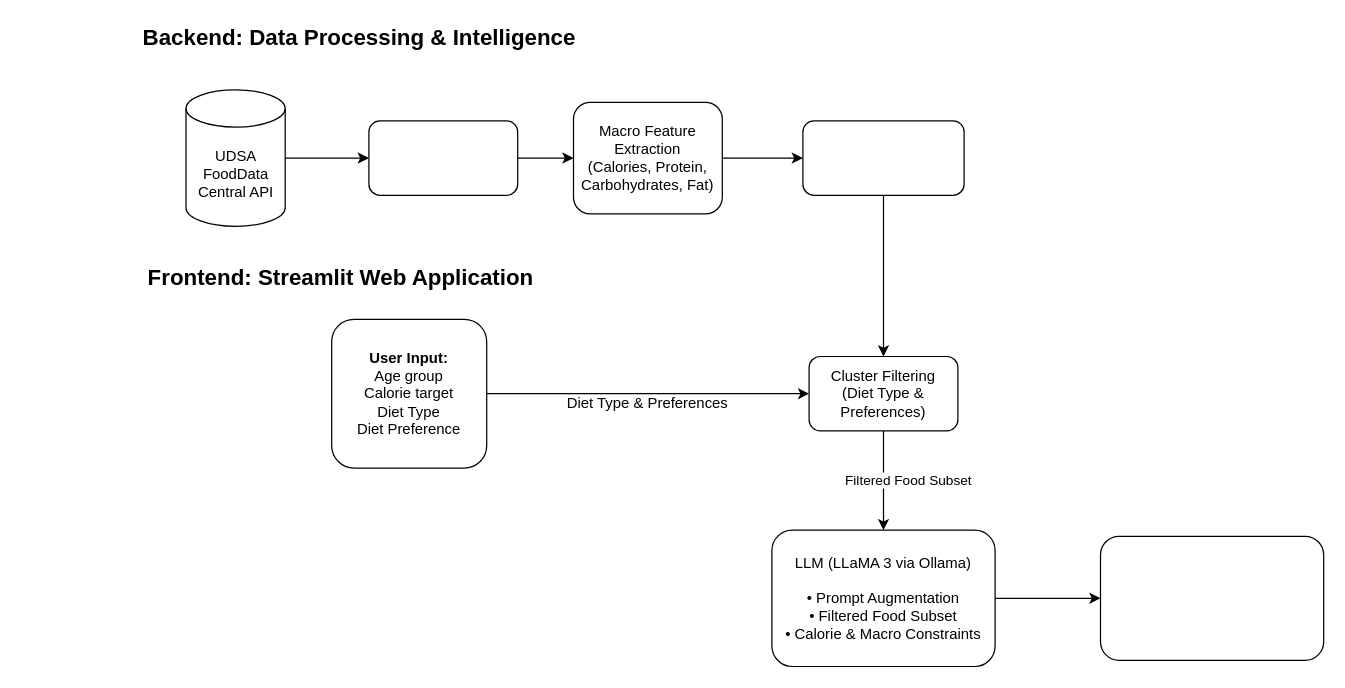
The diagram is 1345 pixels wide and 688 high, and some of its shapes have lost their labels. Here are the shapes that lost their labels. From the top down, the box of each, then its label:
(368, 120, 518, 195): Data Cleaning and Nutrient Normalization
(802, 120, 964, 195): Food Clustering (K-Means)
(1099, 535, 1324, 660): Output • Daily Meal Plan • Recipes • Grocery List • Macro Donut Chart
